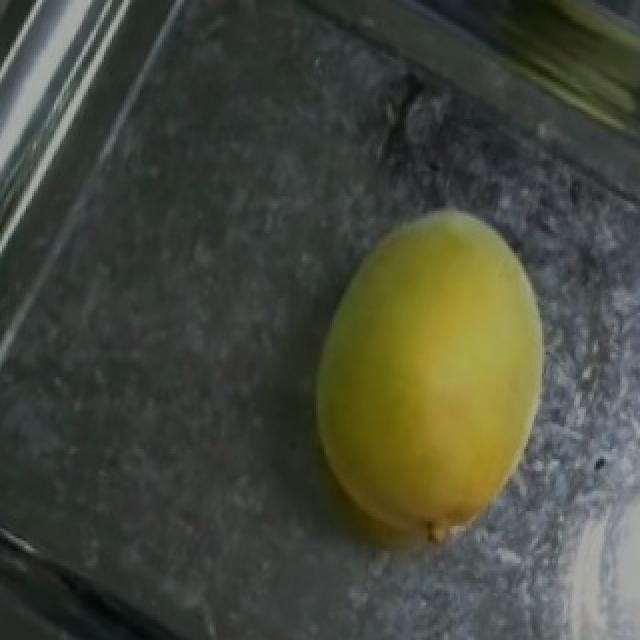fruit: (288, 164, 610, 578)
